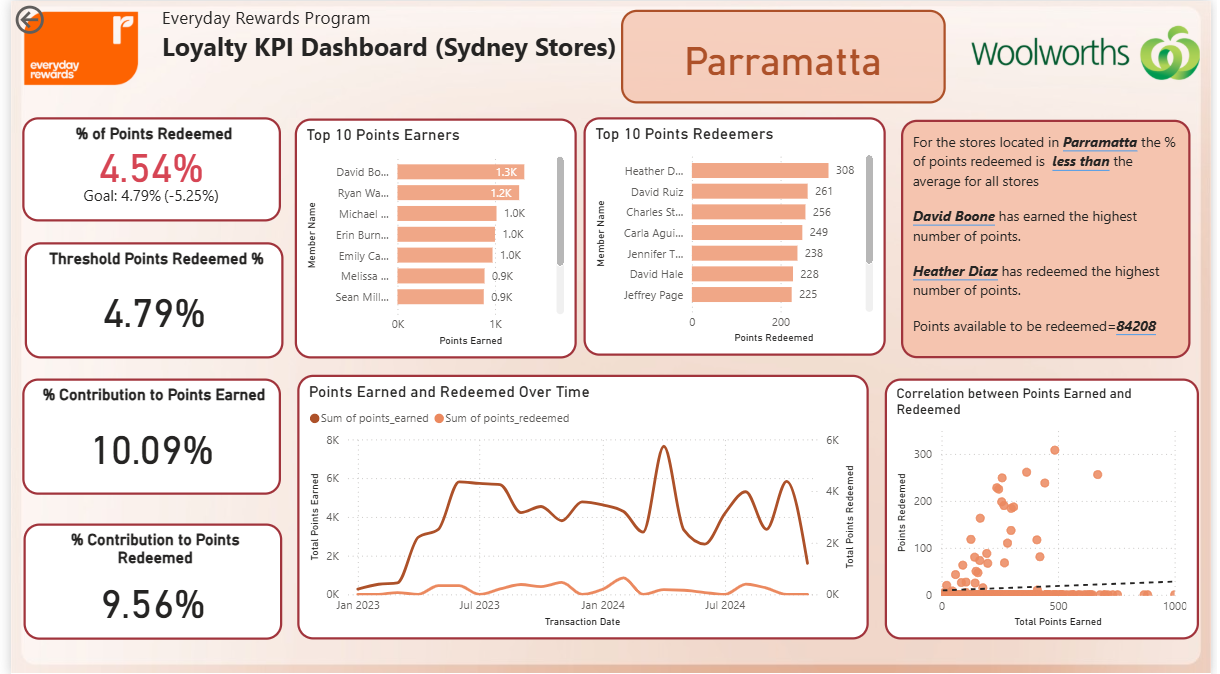

Layout of this report page (visuals, bound fields, positions):
{"tool":"powerbi","page":{"name":"Store Location Report","canvas":[1280,720],"ordinal":1},"visuals":[{"type":"image","box":[13.3,6,123.1,88.1],"z":0},{"type":"image","box":[1024.3,0,243.7,109.8],"z":1000},{"type":"textbox","box":[155.6,0,533.2,100.1],"z":2000},{"type":"card","fields":{"Values":["Min(Transactions.store_location)"]},"box":[650.3,9.7,346.2,100.1],"z":3000},{"type":"actionButton","box":[0,0,100,40],"z":4000},{"type":"card","title":"Threshold Points Redeemed %","fields":{"Values":["Measures Table.Threshold Redemption %"]},"box":[14.5,257,276.3,124.3],"z":4001},{"type":"kpi","title":"% of Points Redeemed","fields":{"Indicator":["Measures Table.% of Redeemed Points"],"Goal":["Measures Table.Threshold Redemption %"],"TrendLine":["Transactions.store_location"]},"box":[12.1,124.3,276.3,111],"z":4002},{"type":"card","title":"% Contribution to Points Earned","fields":{"Values":["Measures Table.% of Contribution to Points Earned"]},"box":[12.1,403,276.3,124.3],"z":4003},{"type":"card","title":"% Contribution to Points Redeemed","fields":{"Values":["Measures Table.% of Contribution to Points Redeemd"]},"box":[13.3,557.4,276.3,124.3],"z":4004},{"type":"barChart","title":"Top 10 Points Earners","fields":{"Category":["Customers.full_name"],"Y":["Sum(Transactions.points_earned)"]},"box":[302.8,125.5,300.4,255.8],"z":4005},{"type":"barChart","title":"Top 10 Points Redeemers","fields":{"Category":["Customers.full_name"],"Y":["Sum(Transactions.points_redeemed)"]},"box":[610.5,124.3,322.1,254.6],"z":4006},{"type":"lineChart","title":"Points Earned and Redeemed Over Time","fields":{"Y":["Sum(Transactions.points_earned)"],"Y2":["Sum(Transactions.points_redeemed)"],"Category":["Transactions.transaction_date.Variation.Date Hierarchy.Year","Transactions.transaction_date.Variation.Date Hierarchy.Month"]},"box":[305.2,399.3,609.3,282.3],"z":4007},{"type":"scatterChart","title":"Correlation between Points Earned and Redeemed","fields":{"X":["Transactions.points_earned"],"Y":["Transactions.points_redeemed"]},"box":[932.6,403,335.4,278.7],"z":4008},{"type":"textbox","box":[949.5,126.7,308.8,254.6],"z":4009}]}

Visuals, with their boxes in screenshot pixels (x1, y1, x2, y2), scaled from the page's 1280x720 canvas onto the 1220x674 screenshot:
image: pyautogui.locateOnScreen(13, 6, 130, 88)
image: pyautogui.locateOnScreen(976, 0, 1209, 103)
textbox: pyautogui.locateOnScreen(148, 0, 657, 94)
card - Min(Transactions.store_location): pyautogui.locateOnScreen(620, 9, 950, 103)
actionButton: pyautogui.locateOnScreen(0, 0, 95, 37)
"Threshold Points Redeemed %" card: pyautogui.locateOnScreen(14, 241, 277, 357)
"% of Points Redeemed" kpi: pyautogui.locateOnScreen(12, 116, 275, 220)
"% Contribution to Points Earned" card: pyautogui.locateOnScreen(12, 377, 275, 494)
"% Contribution to Points Redeemed" card: pyautogui.locateOnScreen(13, 522, 276, 638)
"Top 10 Points Earners" barChart: pyautogui.locateOnScreen(289, 117, 575, 357)
"Top 10 Points Redeemers" barChart: pyautogui.locateOnScreen(582, 116, 889, 355)
"Points Earned and Redeemed Over Time" lineChart: pyautogui.locateOnScreen(291, 374, 872, 638)
"Correlation between Points Earned and Redeemed" scatterChart: pyautogui.locateOnScreen(889, 377, 1209, 638)
textbox: pyautogui.locateOnScreen(905, 119, 1199, 357)
